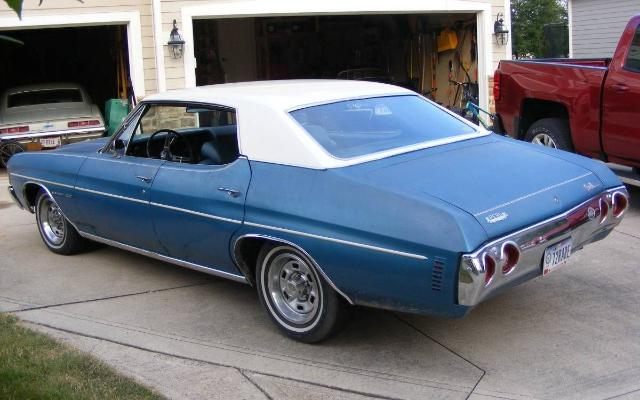chevelle-1972: (7, 79, 630, 342)
